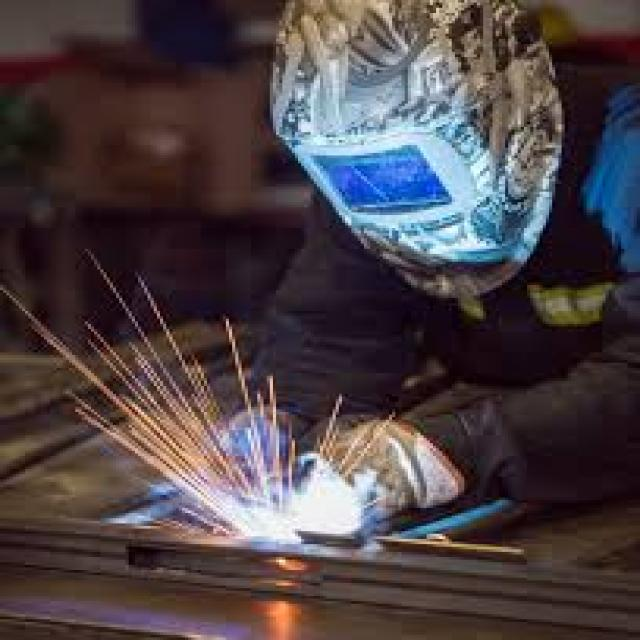welding: (253, 505, 356, 532)
